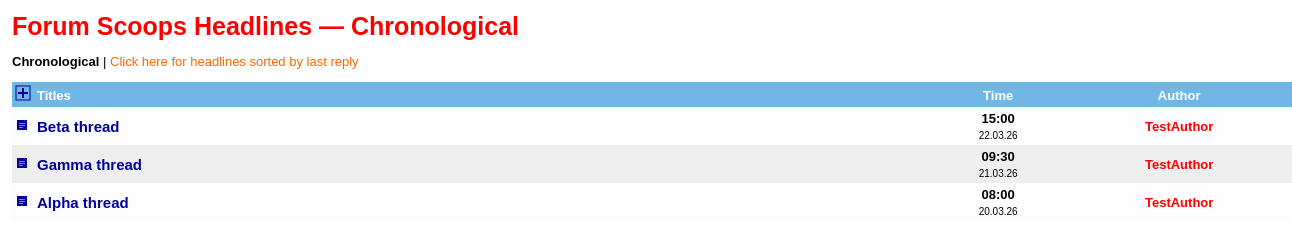
it: HeadlinesTable › clicking the By Last Reply link switches to by-last-reply mode
This screenshot has width=1292, height=232.
Click the link "Click here for headlines sorted by last reply": (234, 62) x1=110 y1=54 x2=359 y2=69
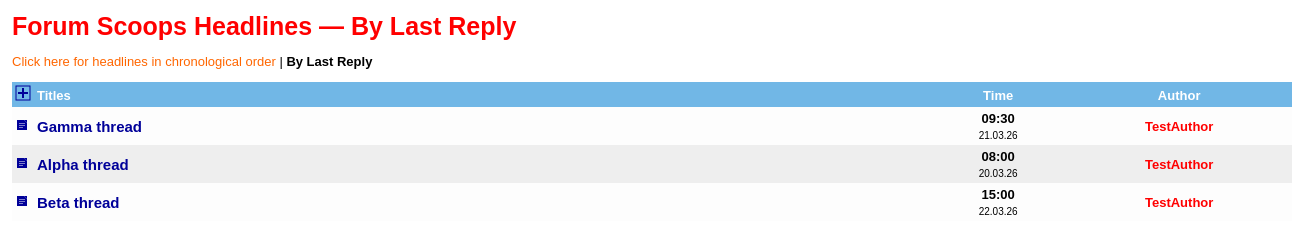
Now the link "Click here for headlines in chronological order" is shown, box x1=12 y1=54 x2=276 y2=69
